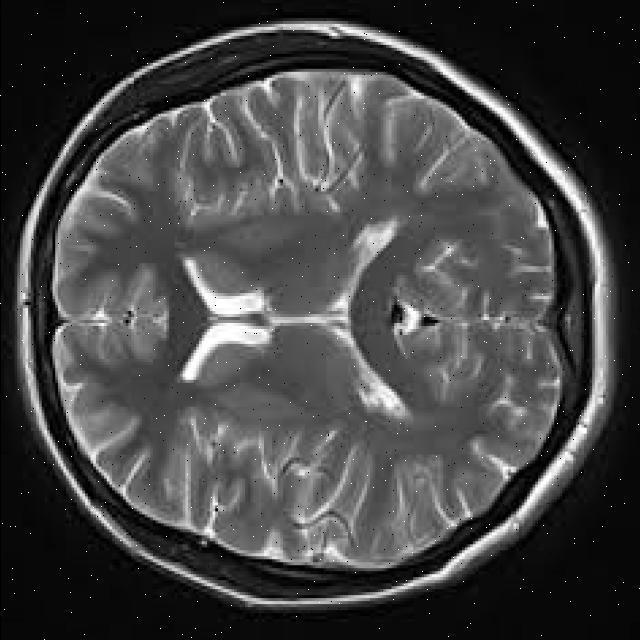No_Tumor: (18, 22, 615, 608)
